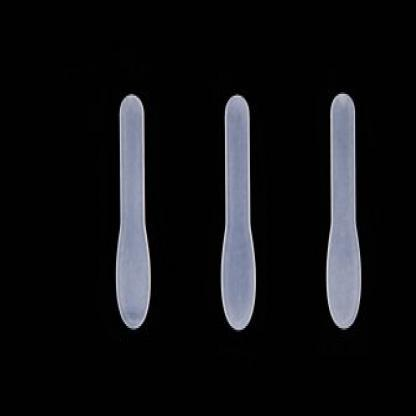Others: (216, 95, 258, 333), (112, 93, 150, 331), (322, 93, 358, 331)
